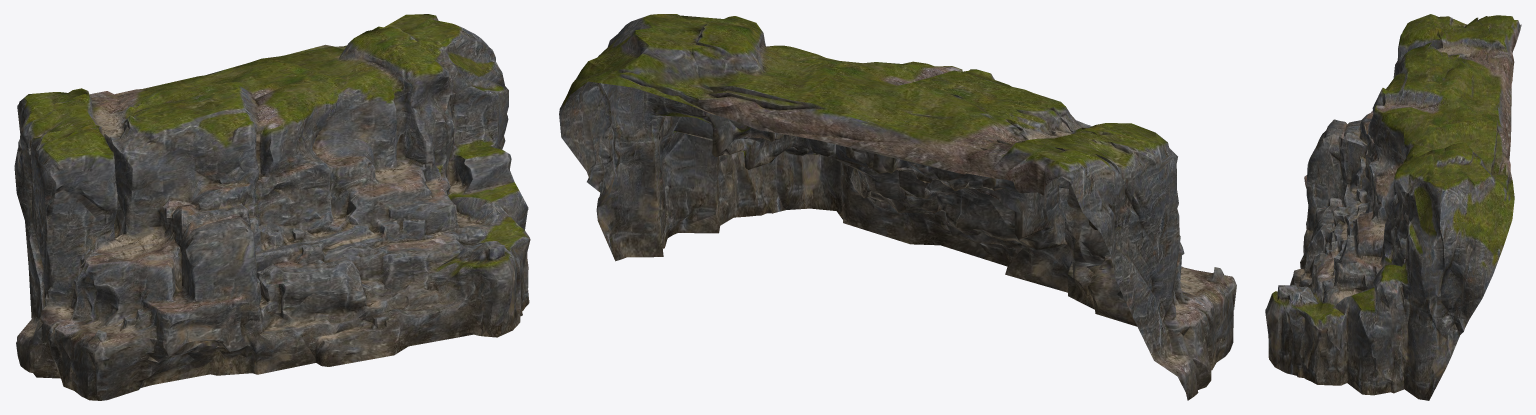
Rendered from Muspelheim_Basalt_Cliff.glb.
The picture shows the model from 3 angles, left to right: view 1: azimuth 30°, elevation 25°; view 2: azimuth 150°, elevation 25°; view 3: azimuth 270°, elevation 25°; orthographic projection. The views are drawn at different scales.
Visible parts, largest first — view 1: cliff_05_lp; view 2: cliff_05_lp; view 3: cliff_05_lp.
Boxes of the visible parts, x1,y1,x2,y2 form: cliff_05_lp: (14,14,530,400); cliff_05_lp: (559,14,1236,400); cliff_05_lp: (1265,14,1521,400).
Bounding box in the file's own units: 33.27 × 14.59 × 16.51.
1 material, 1 textured.
